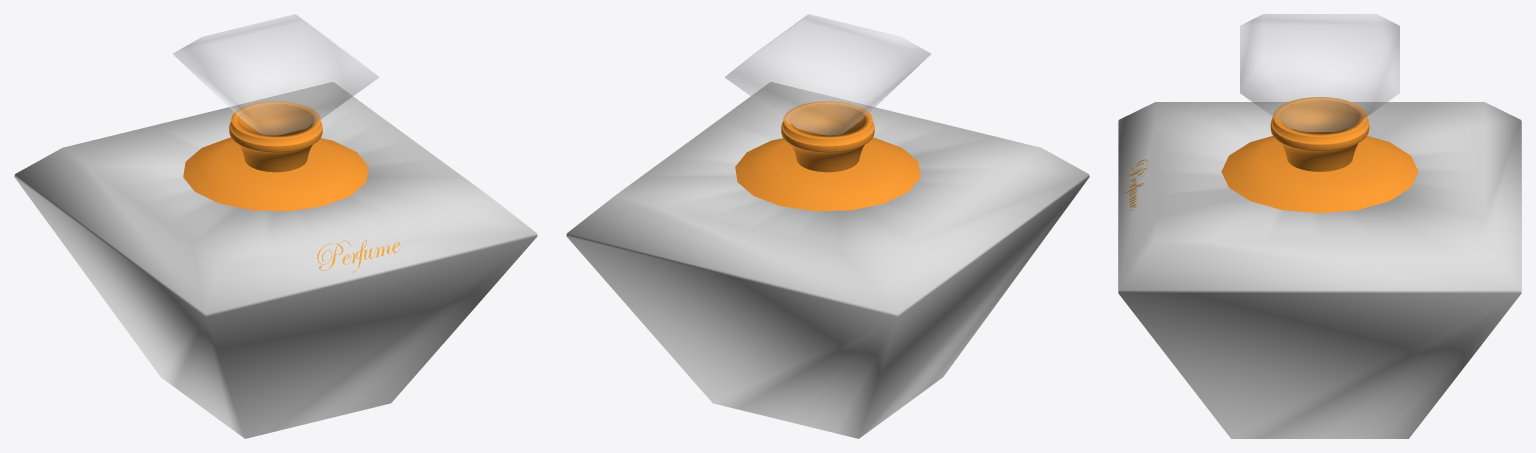
Rendered from perfume_bottle2.glb.
The picture shows the model from 3 angles, left to right: view 1: azimuth 30°, elevation 25°; view 2: azimuth 150°, elevation 25°; view 3: azimuth 270°, elevation 25°; orthographic projection. The views are drawn at different scales.
Visible parts, largest first — view 1: Cube_0, Cube.002_2, Cube.001_1, Cylinder.001_3, Text_4; view 2: Cube_0, Cube.002_2, Cube.001_1, Cylinder.001_3; view 3: Cube_0, Cube.002_2, Cube.001_1, Cylinder.001_3.
Part boxes in pixels (x1,y1,x2,y2): Cube_0: [14, 82, 537, 438]; Cube.002_2: [173, 14, 378, 135]; Cube.001_1: [183, 137, 368, 211]; Cylinder.001_3: [229, 101, 322, 172]; Text_4: [317, 240, 401, 271]; Cube_0: [566, 82, 1089, 438]; Cube.002_2: [725, 14, 930, 135]; Cube.001_1: [735, 137, 920, 211]; Cylinder.001_3: [781, 101, 874, 172]; Cube_0: [1118, 102, 1521, 438]; Cube.002_2: [1240, 14, 1399, 131]; Cube.001_1: [1221, 136, 1418, 213]; Cylinder.001_3: [1270, 97, 1369, 171].
Bounding box in the file's own units: 3.99 × 3.96 × 3.99.
